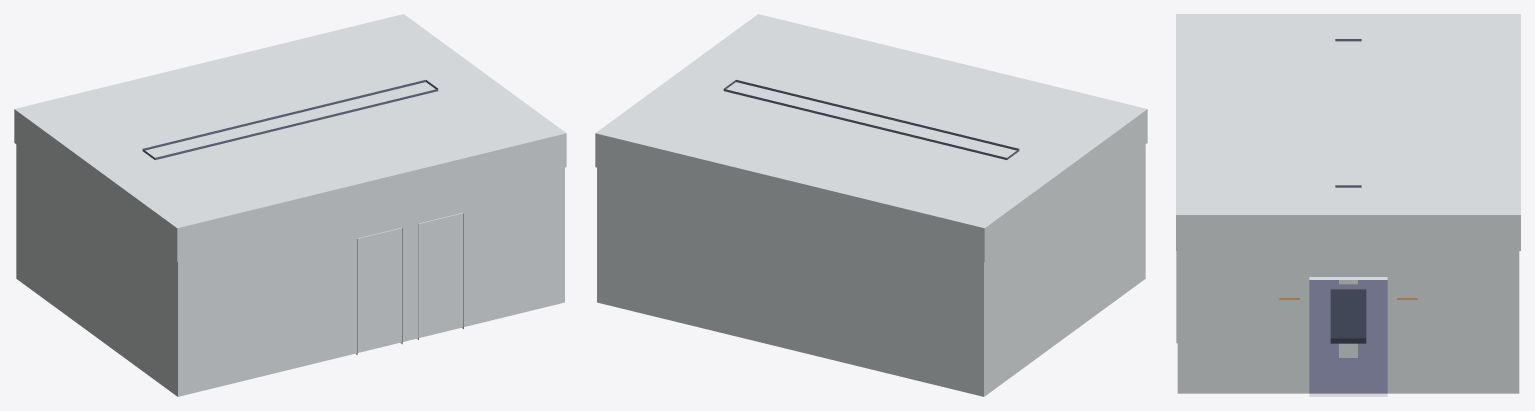
File: Kamer.fbx
3 views of the same model, side by side, from view 1: azimuth 30°, elevation 25°; view 2: azimuth 150°, elevation 25°; view 3: azimuth 270°, elevation 25° (orthographic). The views are drawn at different scales.
Parts seen in each view (by area): view 1: Kamer; view 2: Kamer; view 3: Kamer, Cube.
Boxes of the visible parts, bbox=[...] form: Kamer: bbox=[14, 14, 566, 396]; Kamer: bbox=[595, 14, 1147, 396]; Kamer: bbox=[1176, 14, 1520, 396]; Cube: bbox=[1330, 280, 1366, 357].
Bounding box in the file's own units: 6.78 × 2.9 × 4.85.
